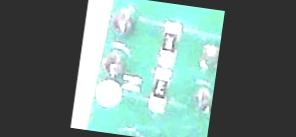chip-resistor: (146, 63, 176, 113), (155, 17, 184, 65)
